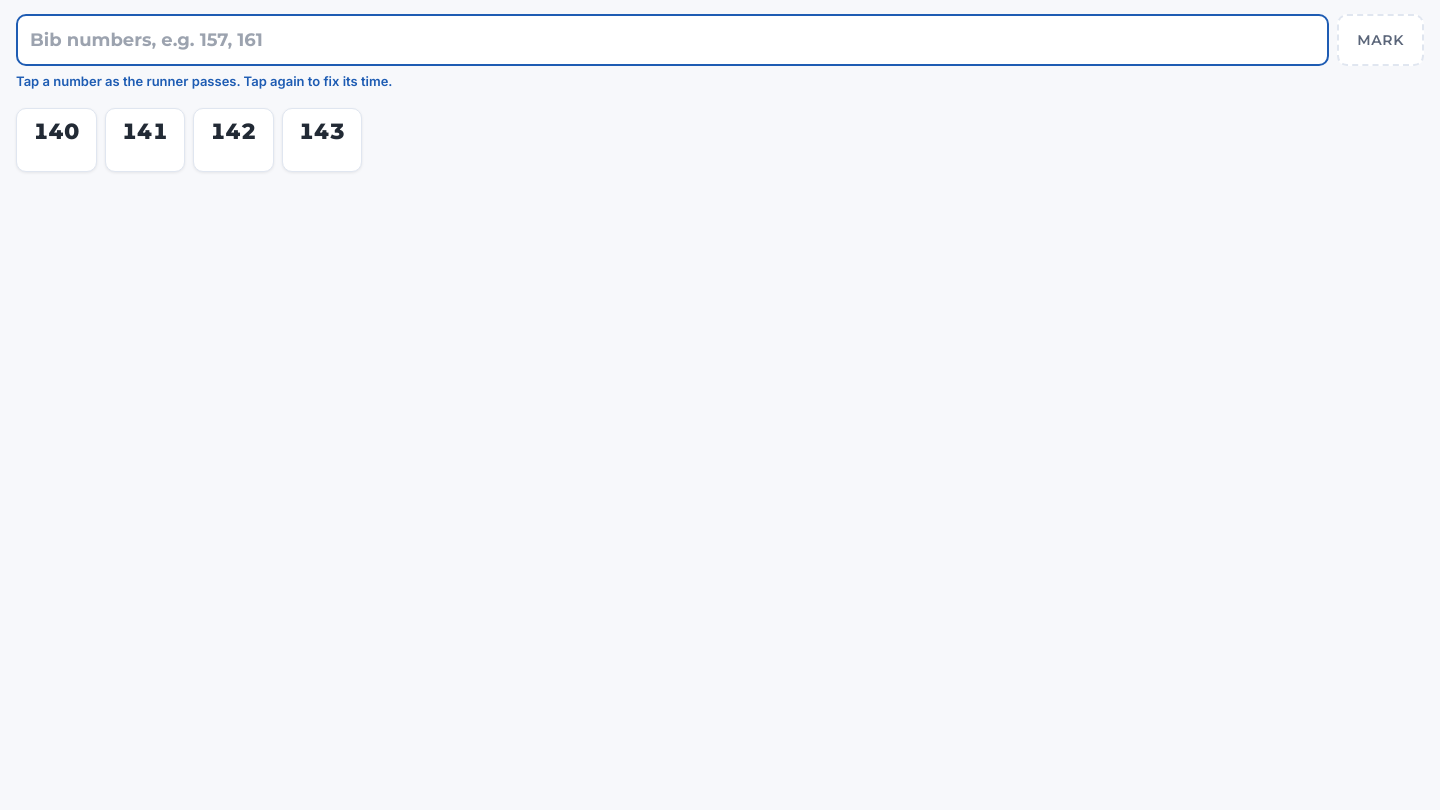
Test: Mark off (RunnerGrid) › tapping a passed tile opens the edit sheet instead of unmarking
This screenshot has width=1440, height=810.
Click the button "141" at (145, 140), box [104, 108, 185, 172]
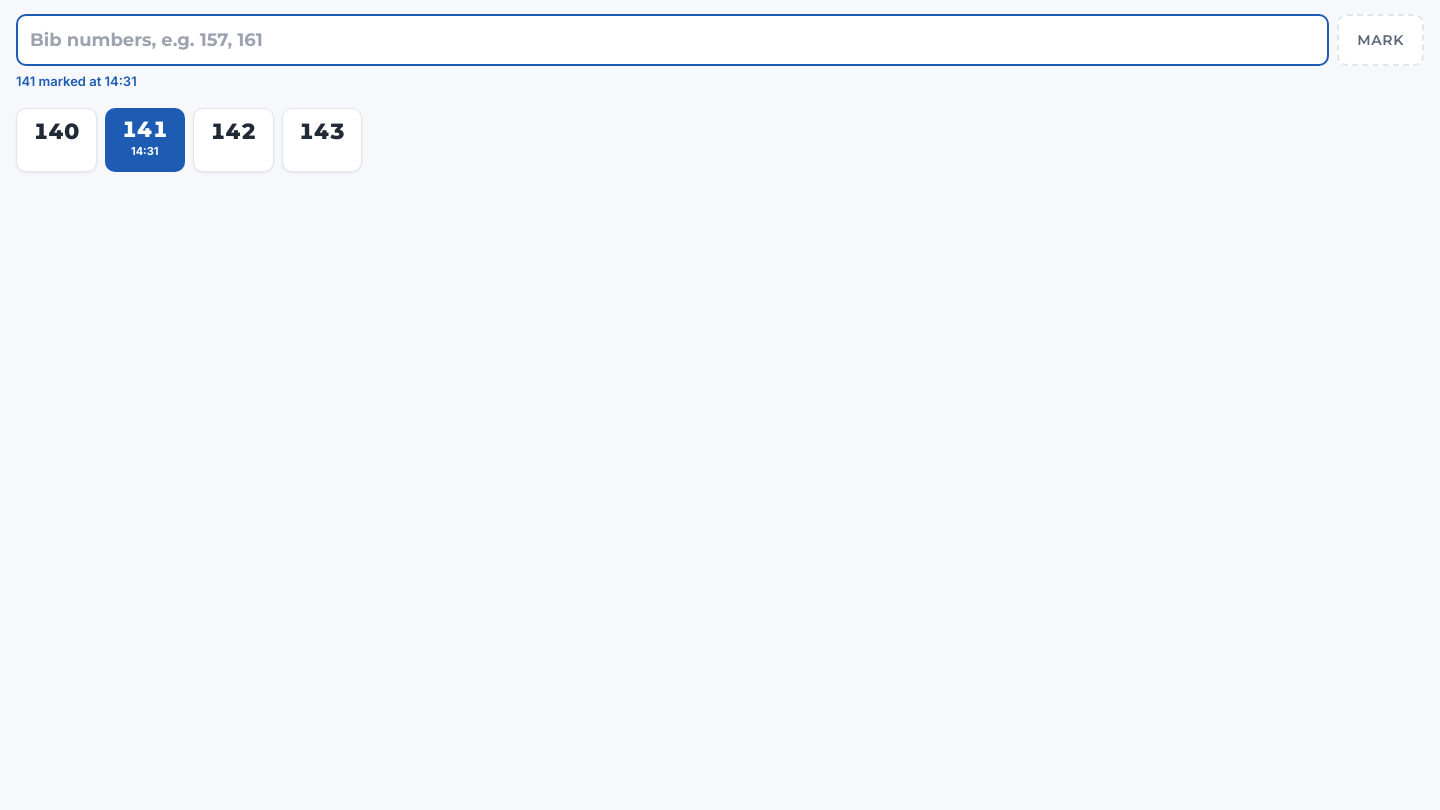
Click the button "141 14:31" at (145, 140), box [104, 108, 185, 172]
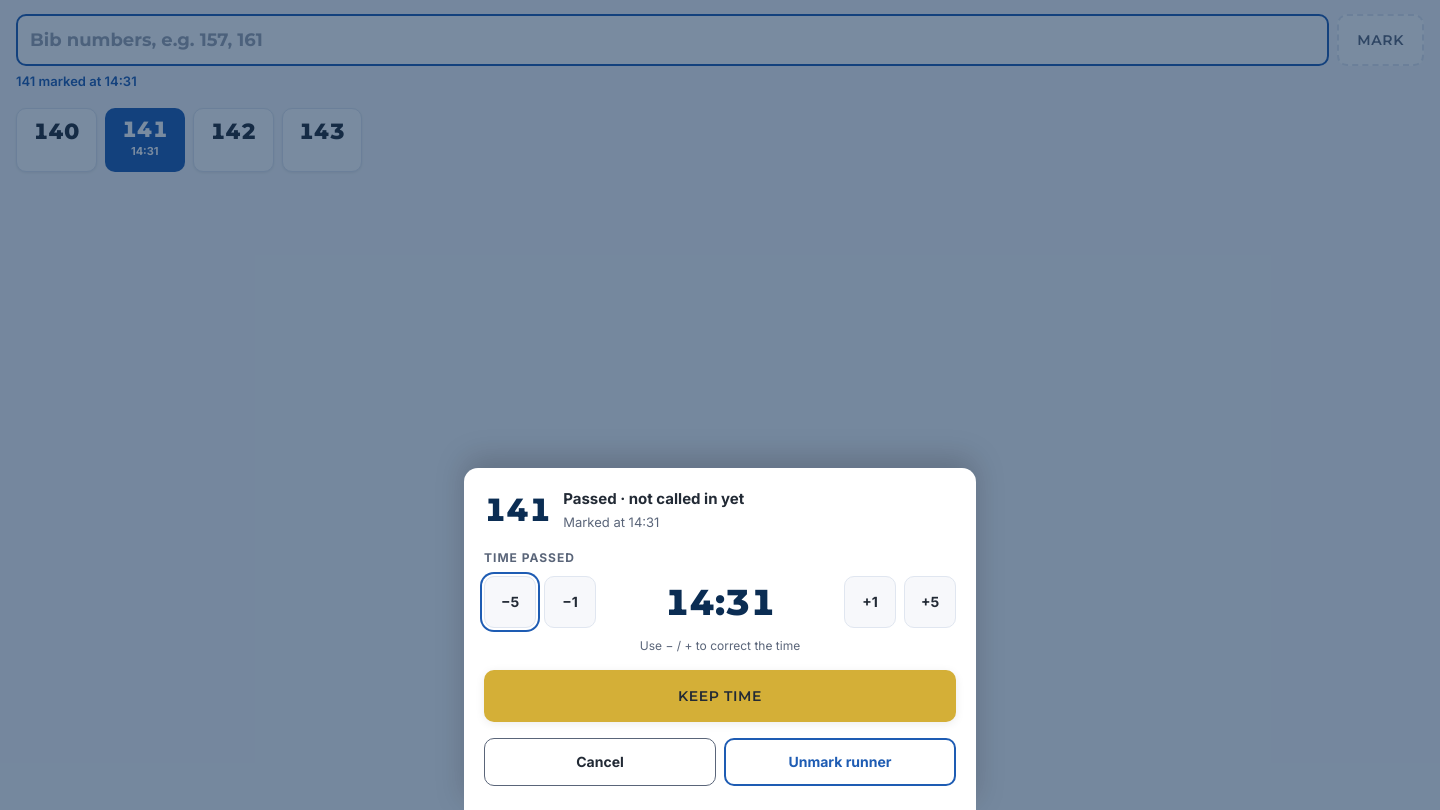
Expected: the text "Passed · not called in yet" is shown, [563, 489, 744, 508]
Expected: the button "Keep time" is shown, [484, 670, 956, 722]
